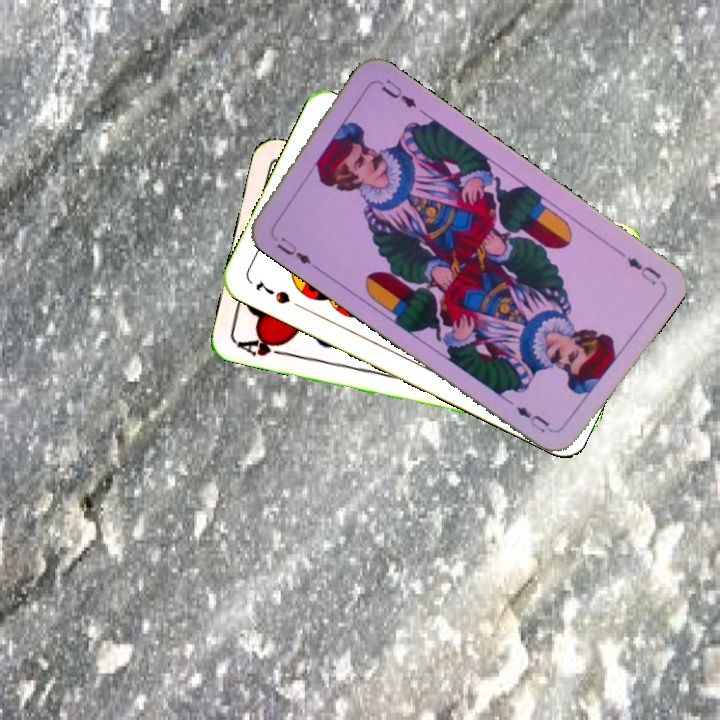EU: (267, 229, 314, 267), (622, 253, 664, 288)
HA: (232, 331, 292, 359)
S7: (251, 277, 293, 307)
